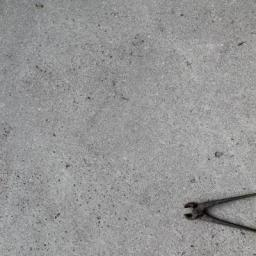FOD: (183, 192, 256, 235)
